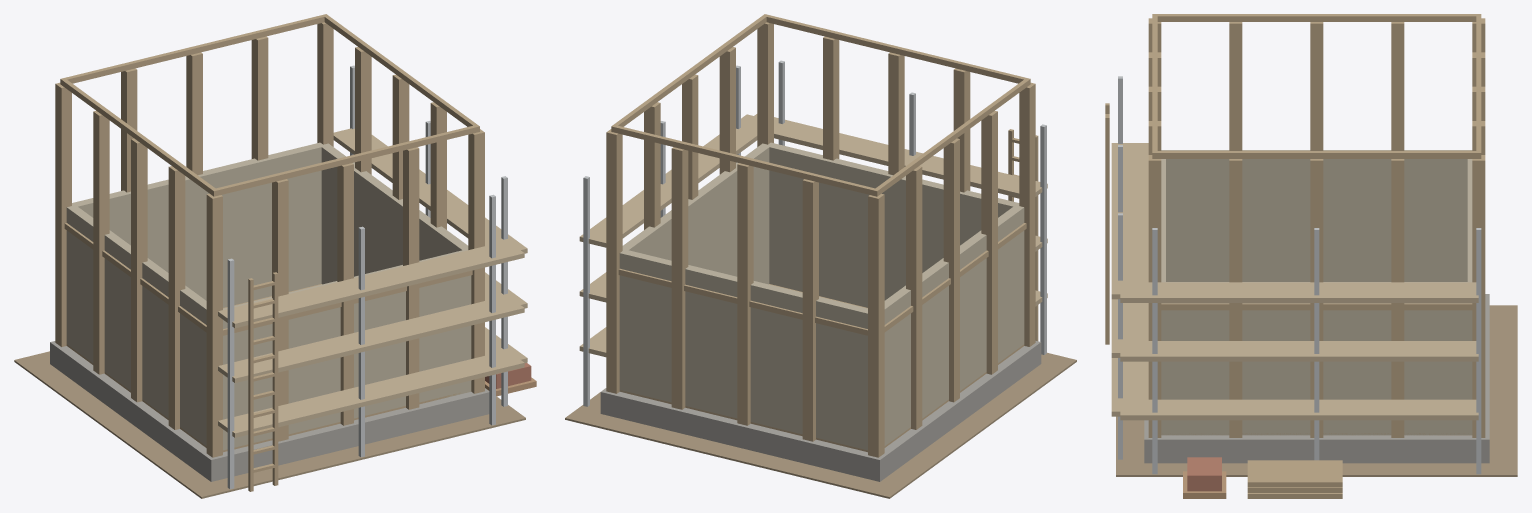
Rendered from feed_mill_site_6.glb.
The picture shows the model from 3 angles, left to right: view 1: azimuth 30°, elevation 25°; view 2: azimuth 150°, elevation 25°; view 3: azimuth 270°, elevation 25°; orthographic projection. The views are drawn at different scales.
Parts seen in each view (by area): view 1: body; view 2: body; view 3: body.
Boxes of the visible parts, left/top/right/bottom form: body: left=14, top=14, right=536, bottom=498; body: left=565, top=14, right=1076, bottom=498; body: left=1105, top=14, right=1517, bottom=498.
Size of the model in its own units: 2.1 by 1.58 by 1.91.
